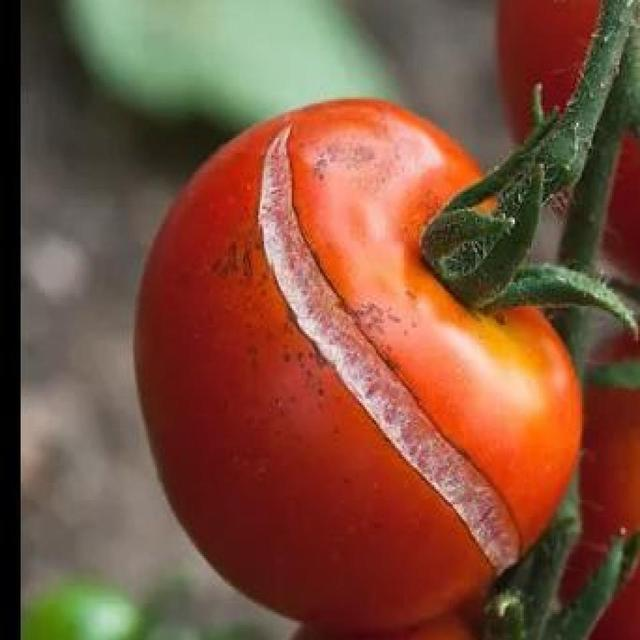Cracking Fruit: (162, 75, 356, 382)
